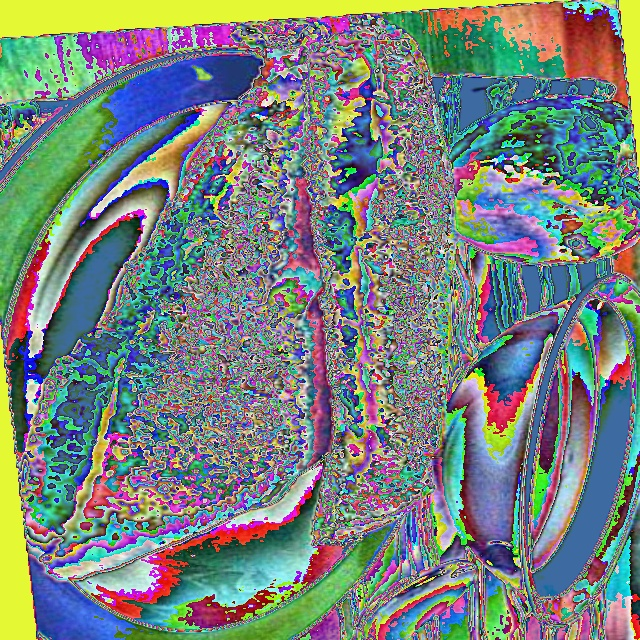background: (22, 14, 639, 583), (70, 250, 601, 569)
